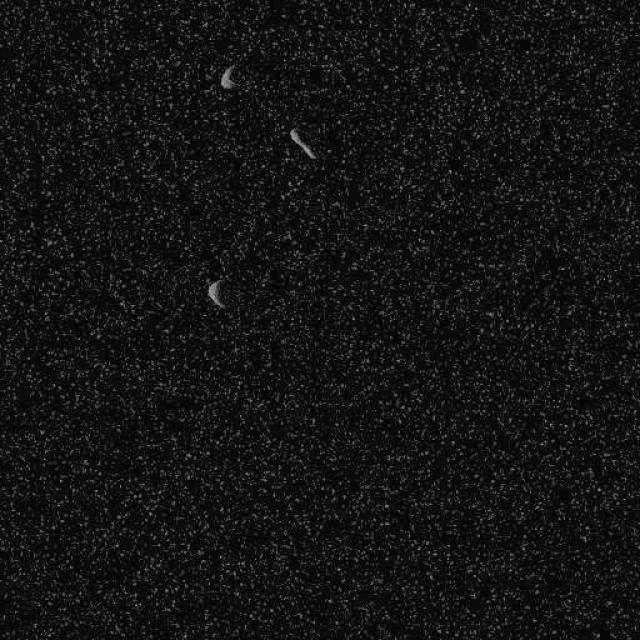D2: (288, 126, 316, 160), (205, 278, 226, 310), (218, 64, 238, 90)
